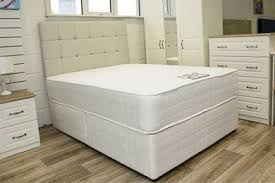bed-matress: (45, 61, 238, 134)
